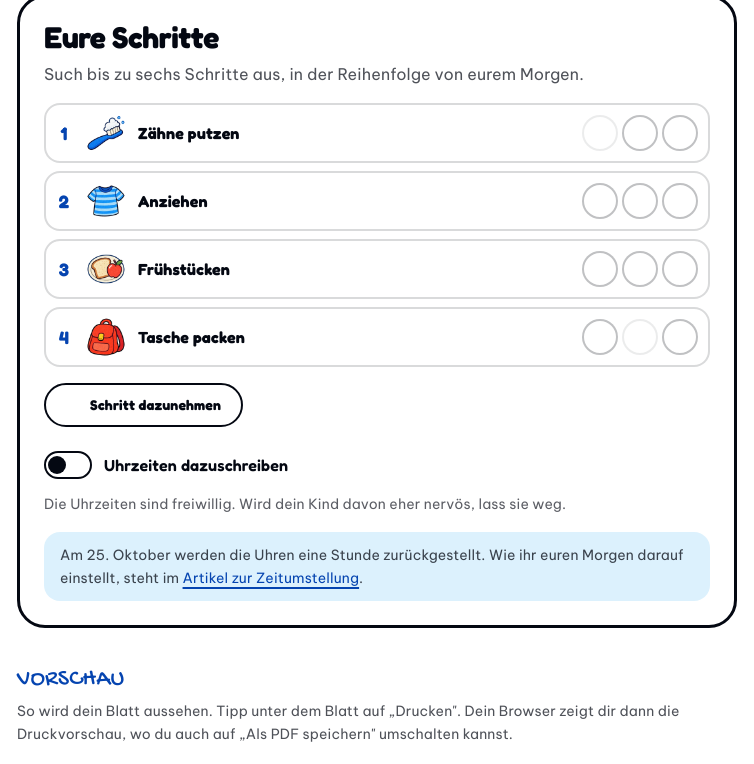
Morgenroutine builder › adds steps from the picture grid and stops at six
The width and height of the screenshot is (754, 764).
(page scrolled)
What coordinates should you click on to do the following:
click the button "Schritt dazunehmen"
I would click on:
 (144, 405)
Its box is [44,383,243,427].
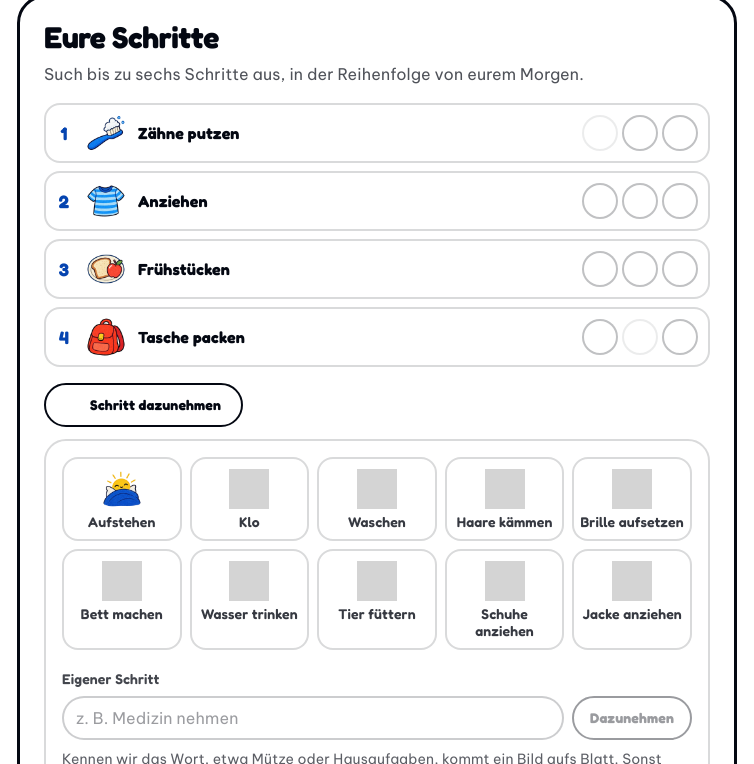
What coordinates should you click on to do the following:
click the button with aria-label "Aufstehen dazunehmen"
I would click on:
 (122, 499)
Its box is [62,457,182,540].
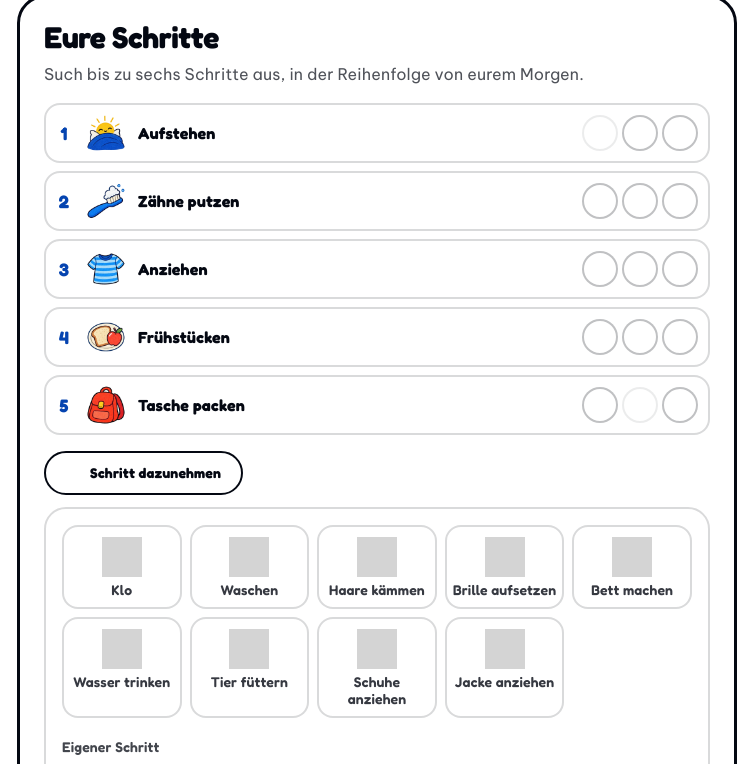
What coordinates should you click on to do the following:
click the button with aria-label "Haare kämmen dazunehmen"
I would click on:
 (377, 567)
Its box is [317,525,437,608].
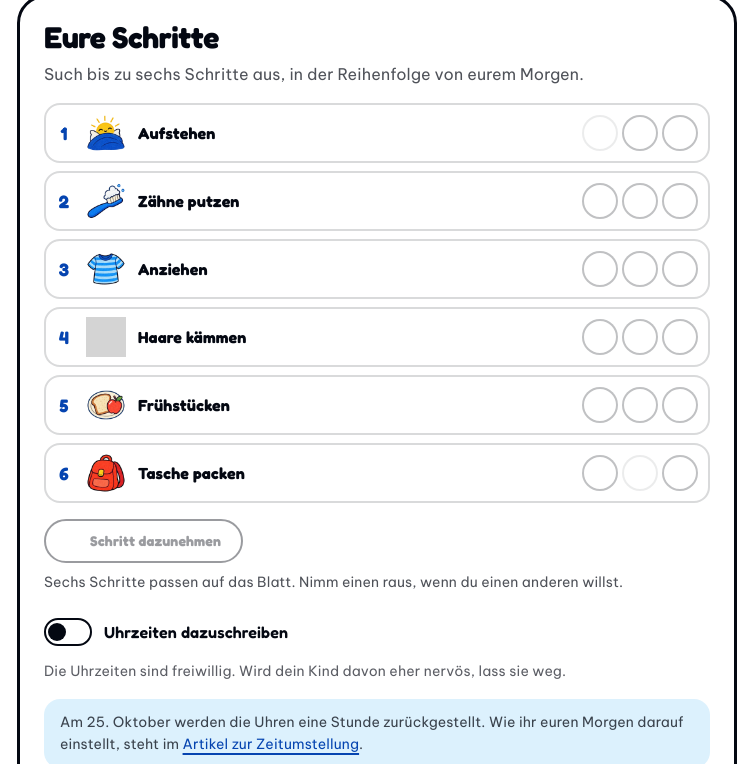
Now the button "Schritt dazunehmen" is disabled, box [44,519,243,563]
Now the text "Sechs Schritte passen auf das Blatt." is shown, box [44,573,623,591]
What coordinates should you click on to do the following:
click the button named "Haare kämmen entfernen"
I would click on:
 (680, 337)
Its box is [662,319,698,355].
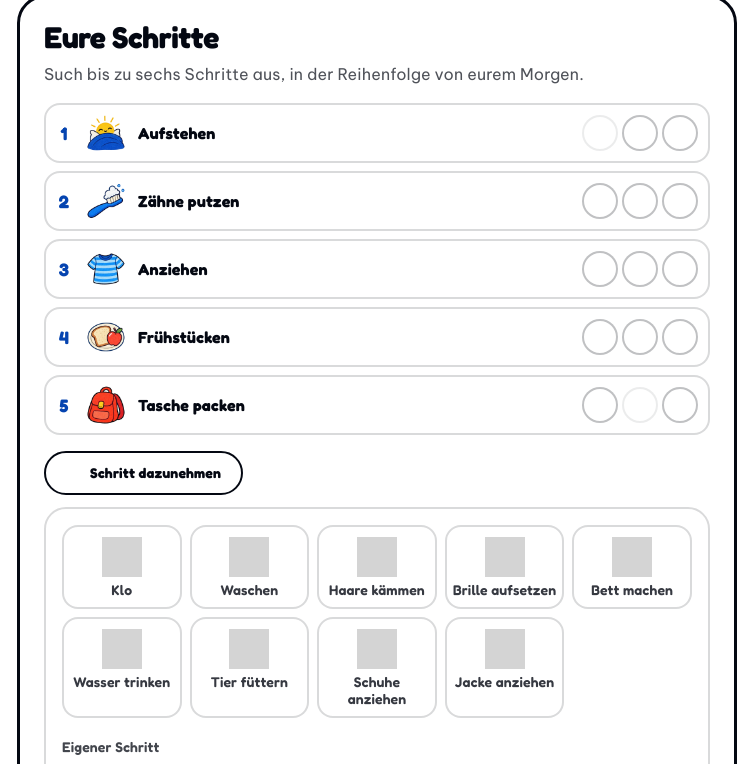
Now the button "Schritt dazunehmen" is enabled, box [44,451,243,495]
